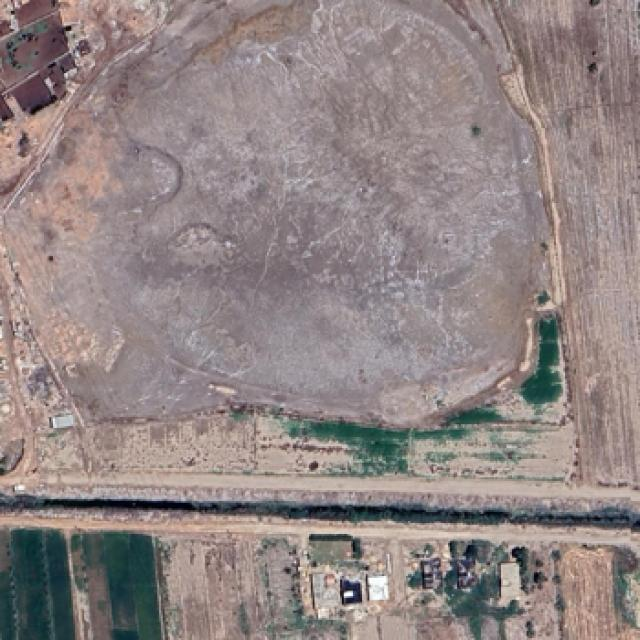ruins: (577, 138, 640, 303), (575, 2, 640, 142), (191, 539, 259, 638), (245, 430, 303, 474)
vegetation: (409, 541, 534, 636), (286, 418, 412, 468), (523, 310, 564, 406)
